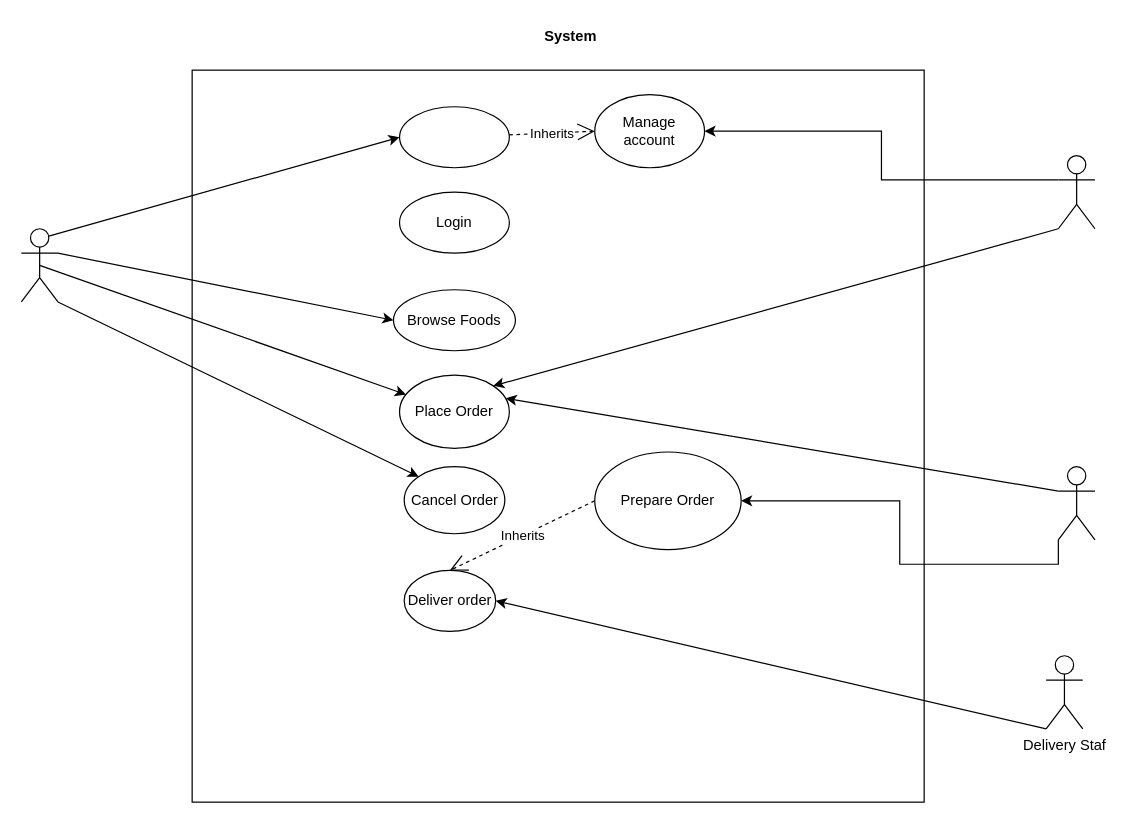
The diagram is 1127 pixels wide and 824 high, and some of its shapes have lost their labels. Here are the shapes that lost their labels. From the top down, the centre of each, then its label:
At (453,137): "Create account".
At (1076,191): "Admin".
At (39,265): "User".
At (1076,502): "Staff".
